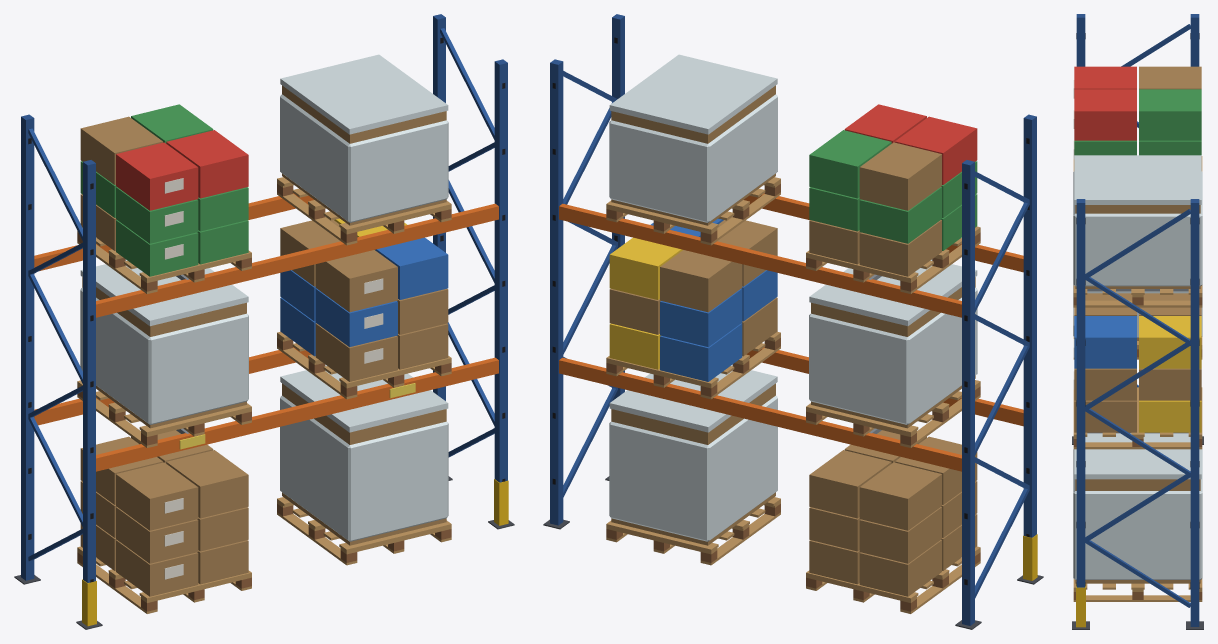
Rendered from Pallet_Rack_Bay_4m.glb.
The picture shows the model from 3 angles, left to right: view 1: azimuth 30°, elevation 25°; view 2: azimuth 150°, elevation 25°; view 3: azimuth 270°, elevation 25°; orthographic projection. The views are drawn at different scales.
Parts seen in each view (by area): view 1: Pallet_Rack_Bay_4m; view 2: Pallet_Rack_Bay_4m; view 3: Pallet_Rack_Bay_4m.
Part boxes in pixels (x1,y1,x2,y2): Pallet_Rack_Bay_4m: (14, 14, 514, 629); Pallet_Rack_Bay_4m: (543, 14, 1043, 629); Pallet_Rack_Bay_4m: (1072, 14, 1203, 629).
Bounding box in the file's own units: 4.08 × 4.2 × 1.18.
Materials: 1 (1 with a texture image).
